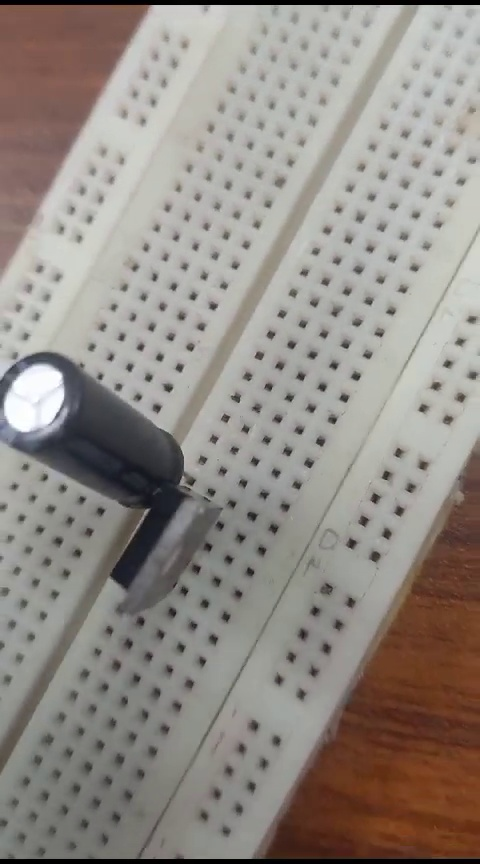capacitor: (2, 339, 190, 511)
voltage regulator: (111, 476, 211, 628)
